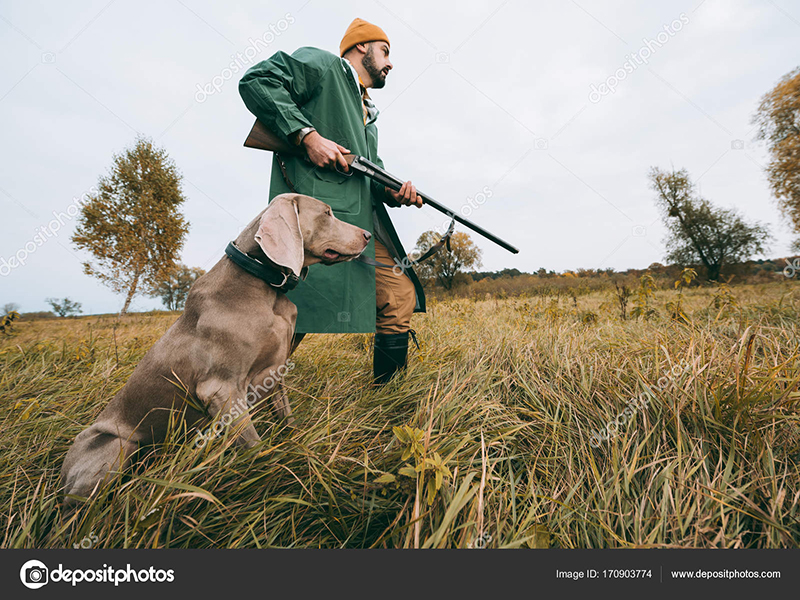cacciatore: (234, 1, 431, 394)
cane da caccia: (58, 183, 374, 517)
fucile: (255, 118, 518, 253)
